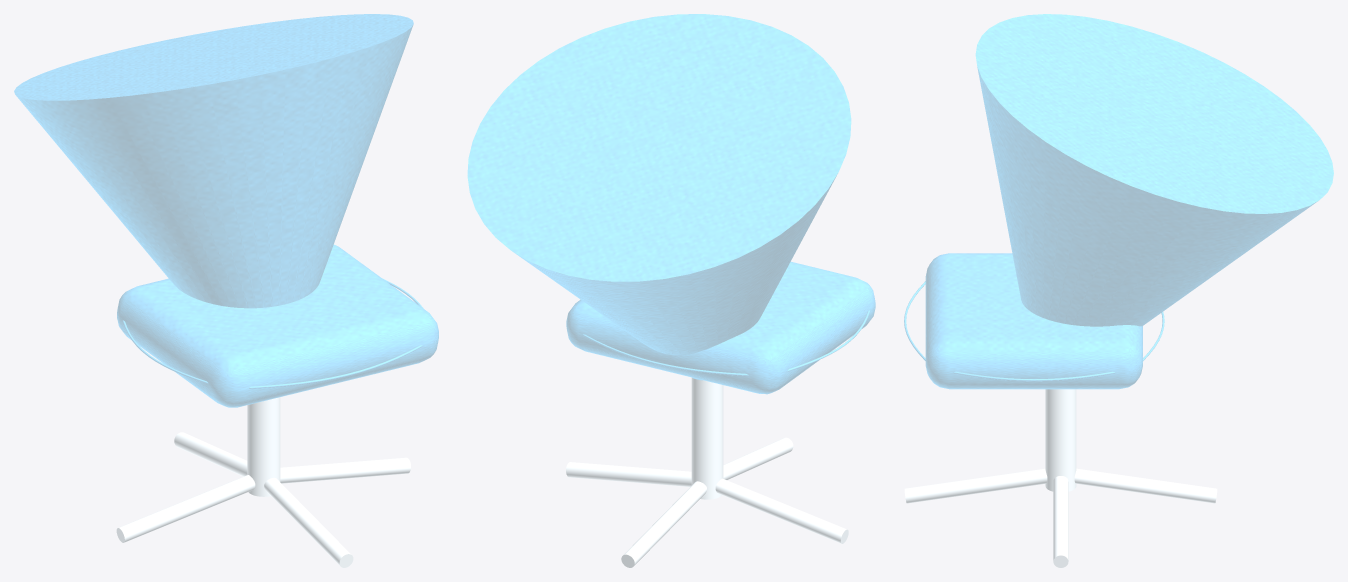
The model's file is ref04_10.glb.
3 views of the same model, side by side, from view 1: azimuth 30°, elevation 25°; view 2: azimuth 150°, elevation 25°; view 3: azimuth 270°, elevation 25° (orthographic). The views are drawn at different scales.
Parts seen in each view (by area): view 1: ref04_10; view 2: ref04_10; view 3: ref04_10.
Part boxes in pixels (x1,y1,x2,y2): ref04_10: (14,14,438,567); ref04_10: (467,14,875,567); ref04_10: (904,14,1333,567).
Size of the model in its own units: 0.86 by 1.11 by 0.9691.
2 materials, 1 textured.
